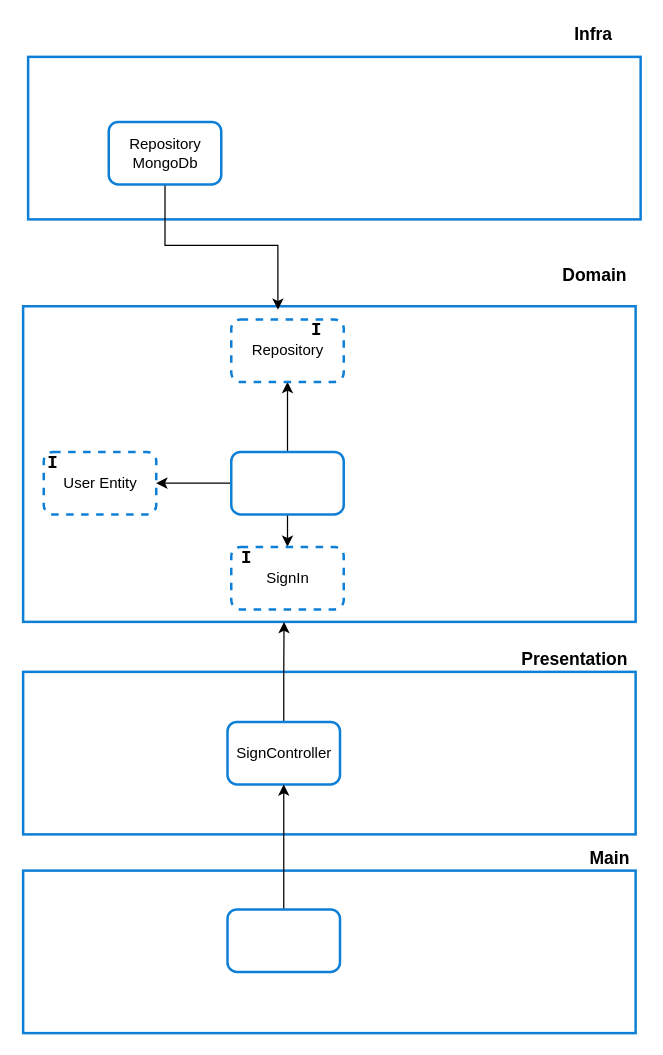
The diagram is 663 pixels wide and 1055 high, and some of its shapes have lost their labels. The shapes that lost their labels are listed below. From the top down, each one's centre as x and y in pixels, then its label:
point (286, 482): SignInUseCase
point (283, 940): SignFactory
